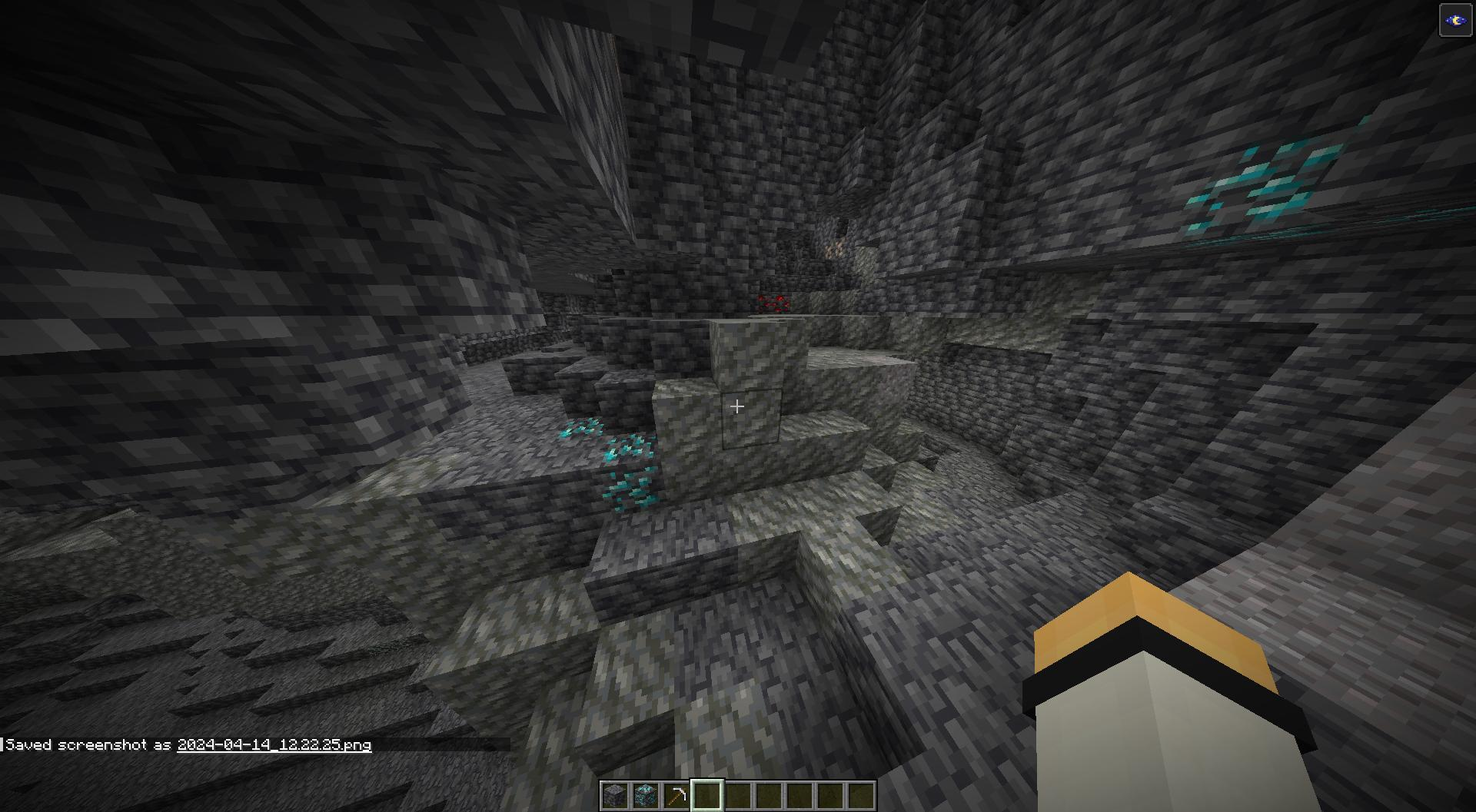diamond ore: (1177, 130, 1343, 236), (605, 469, 660, 515), (610, 435, 660, 464), (556, 412, 606, 438)
iron ore: (823, 240, 847, 259)
redstone ore: (757, 292, 794, 316)
